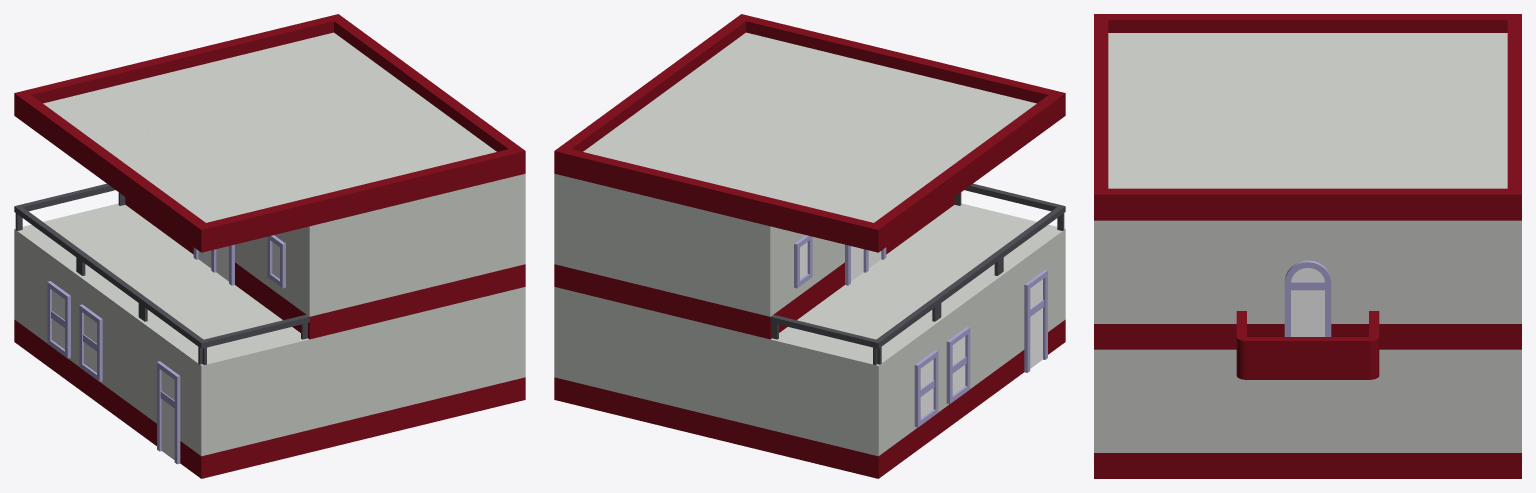
The model's file is modern_house_4.fbx.
3 renders of one model, left to right at view 1: azimuth 30°, elevation 25°; view 2: azimuth 150°, elevation 25°; view 3: azimuth 270°, elevation 25°, orthographic. The views are drawn at different scales.
Parts seen in each view (by area): view 1: mergedBlocks; view 2: mergedBlocks; view 3: mergedBlocks.
Part boxes in pixels (x1,y1,x2,y2): mergedBlocks: (14, 14, 525, 478); mergedBlocks: (554, 14, 1065, 478); mergedBlocks: (1094, 14, 1521, 478).
Size of the model in its own units: 35.3 by 22 by 30.
